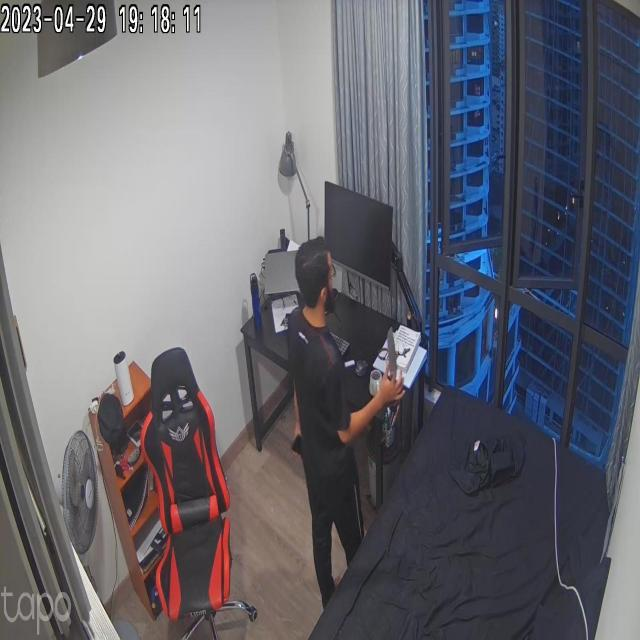Knife: (375, 323, 410, 380)
